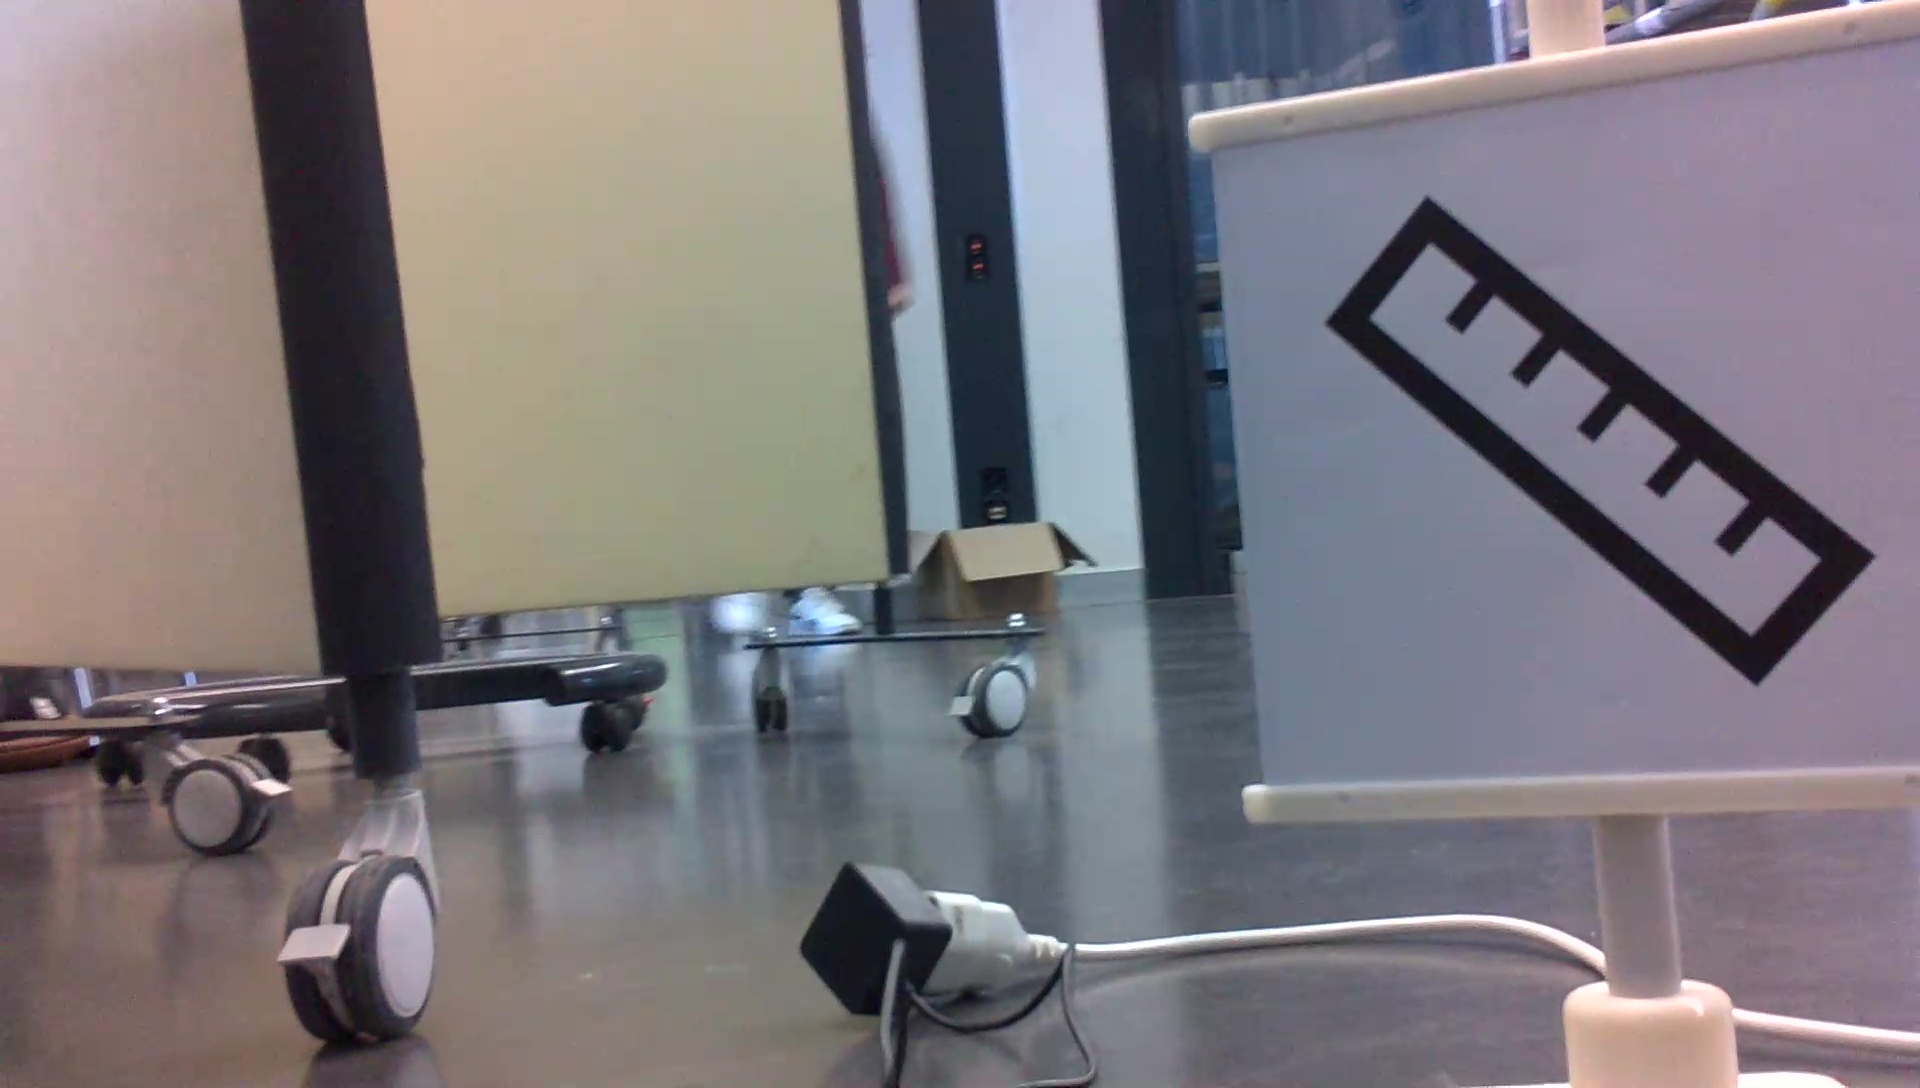ruler: (1316, 193, 1883, 695)
